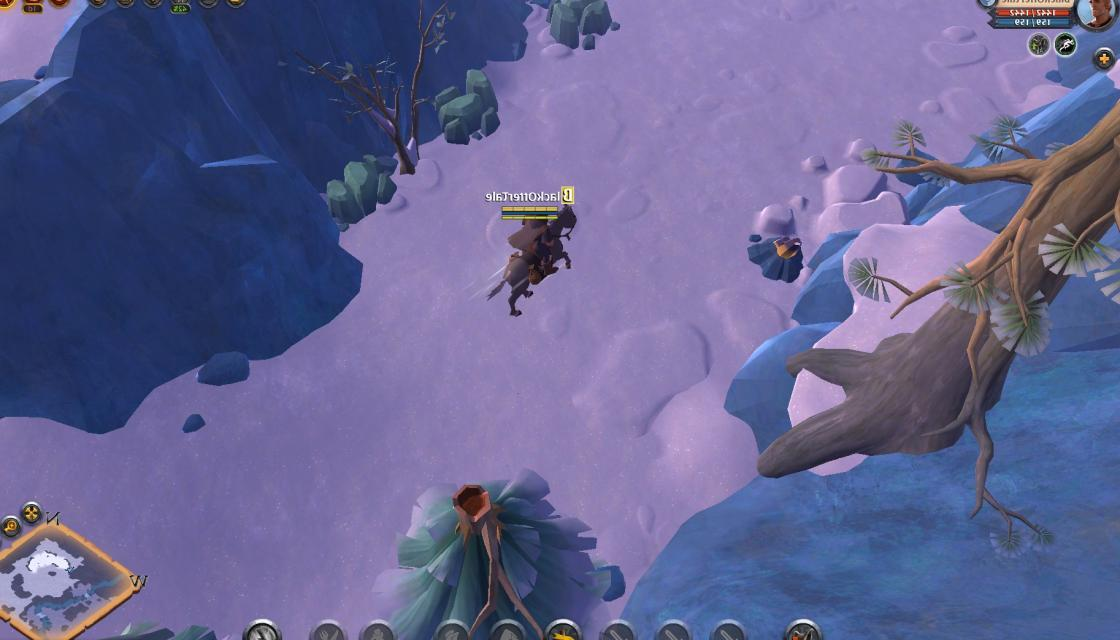copperore: (746, 229, 812, 280)
sandstone: (324, 146, 397, 224), (432, 67, 503, 144), (544, 0, 624, 46)
